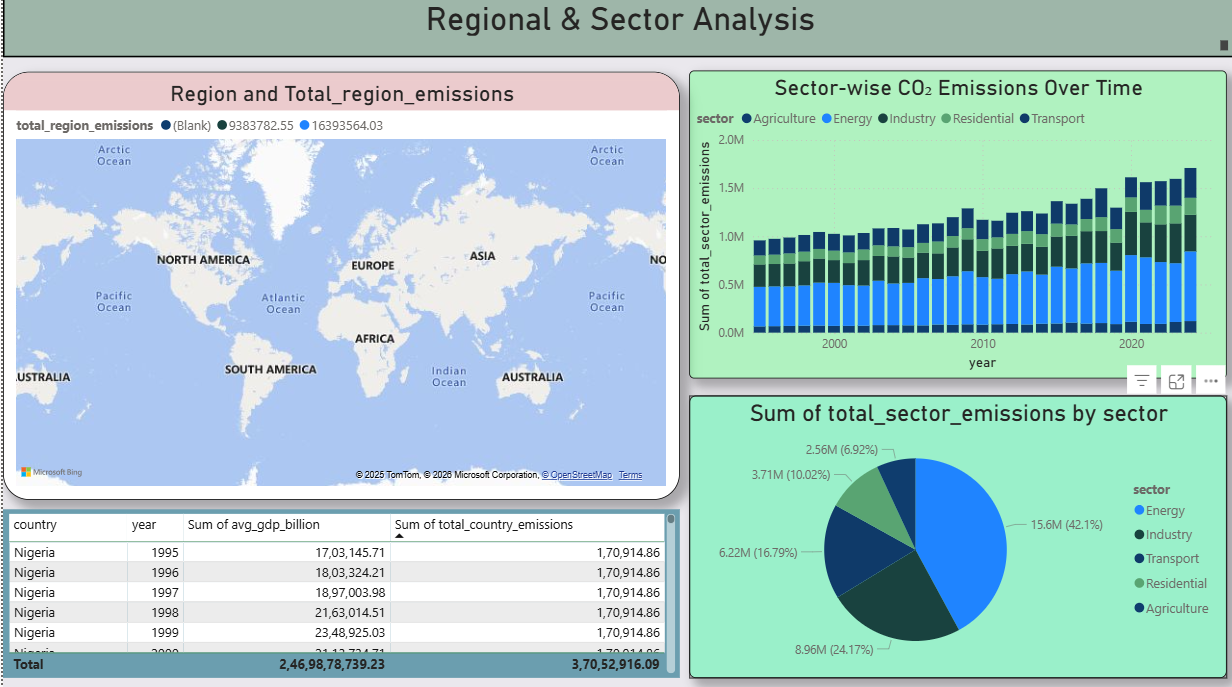

The page's visual inventory and layout, read from the dashboard file:
{"tool":"powerbi","page":{"name":"Regional & Sector Analysis","canvas":[1280,720],"ordinal":2},"visuals":[{"type":"textbox","title":"Regional & Sector Analysis","box":[0,0,1280,61.4],"z":0},{"type":"filledMap","title":"Region and Total_region_emissions","fields":{"Category":["dim_region.region"],"Series":["high_emission_regions.total_region_emissions"]},"box":[0,76.7,703.3,445],"z":1000},{"type":"tableEx","fields":{"Values":["country_emissions_summary.country","economic_emissions_analysis.year","Sum(economic_emissions_analysis.avg_gdp_billion)","Sum(country_emissions_summary.total_country_emissions)"]},"box":[0,531.7,703.3,175],"z":2000},{"type":"columnChart","title":"Sector‑wise CO₂ Emissions Over Time","fields":{"Category":["sector_emissions_summary.year"],"Y":["Sum(sector_emissions_summary.total_sector_emissions)"],"Series":["sector_emissions_summary.sector"]},"box":[712.8,75.9,558.5,319.7],"z":3000},{"type":"pieChart","fields":{"Category":["sector_emissions_summary.sector"],"Y":["Sum(sector_emissions_summary.total_sector_emissions)"]},"box":[712.8,413,558.5,293.6],"z":4000}]}

Visuals, with their boxes in screenshot pixels (x1, y1, x2, y2), scaled from the page's 1280x720 canvas onto the 1232x687 screenshot:
"Regional & Sector Analysis" textbox: BBox(0, 0, 1231, 59)
"Region and Total_region_emissions" filledMap: BBox(0, 73, 677, 498)
tableEx - country_emissions_summary.country x economic_emissions_analysis.year: BBox(0, 507, 677, 674)
"Sector‑wise CO₂ Emissions Over Time" columnChart: BBox(686, 72, 1224, 377)
pieChart - sector_emissions_summary.sector x Sum(sector_emissions_summary.total_sector_emissions): BBox(686, 394, 1224, 674)
